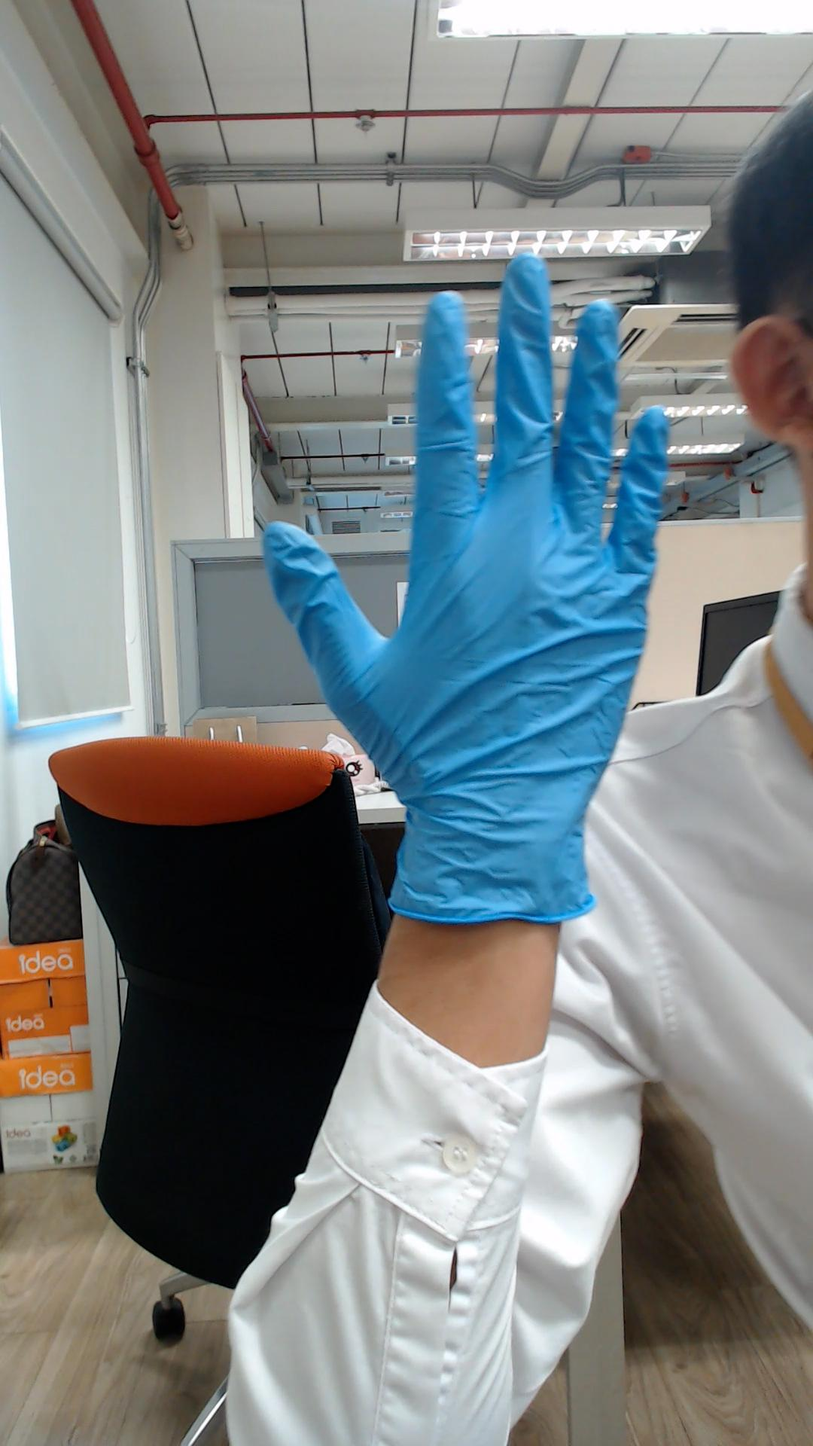gloves: (249, 209, 709, 798)
